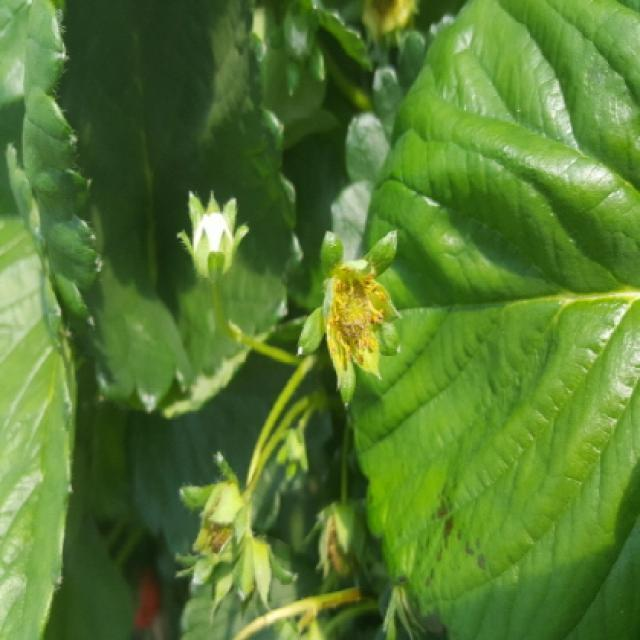Blossom Blight: (320, 261, 392, 375)
